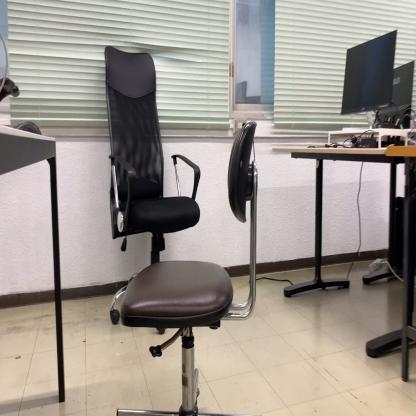chair: (118, 121, 260, 416), (105, 44, 202, 326)
